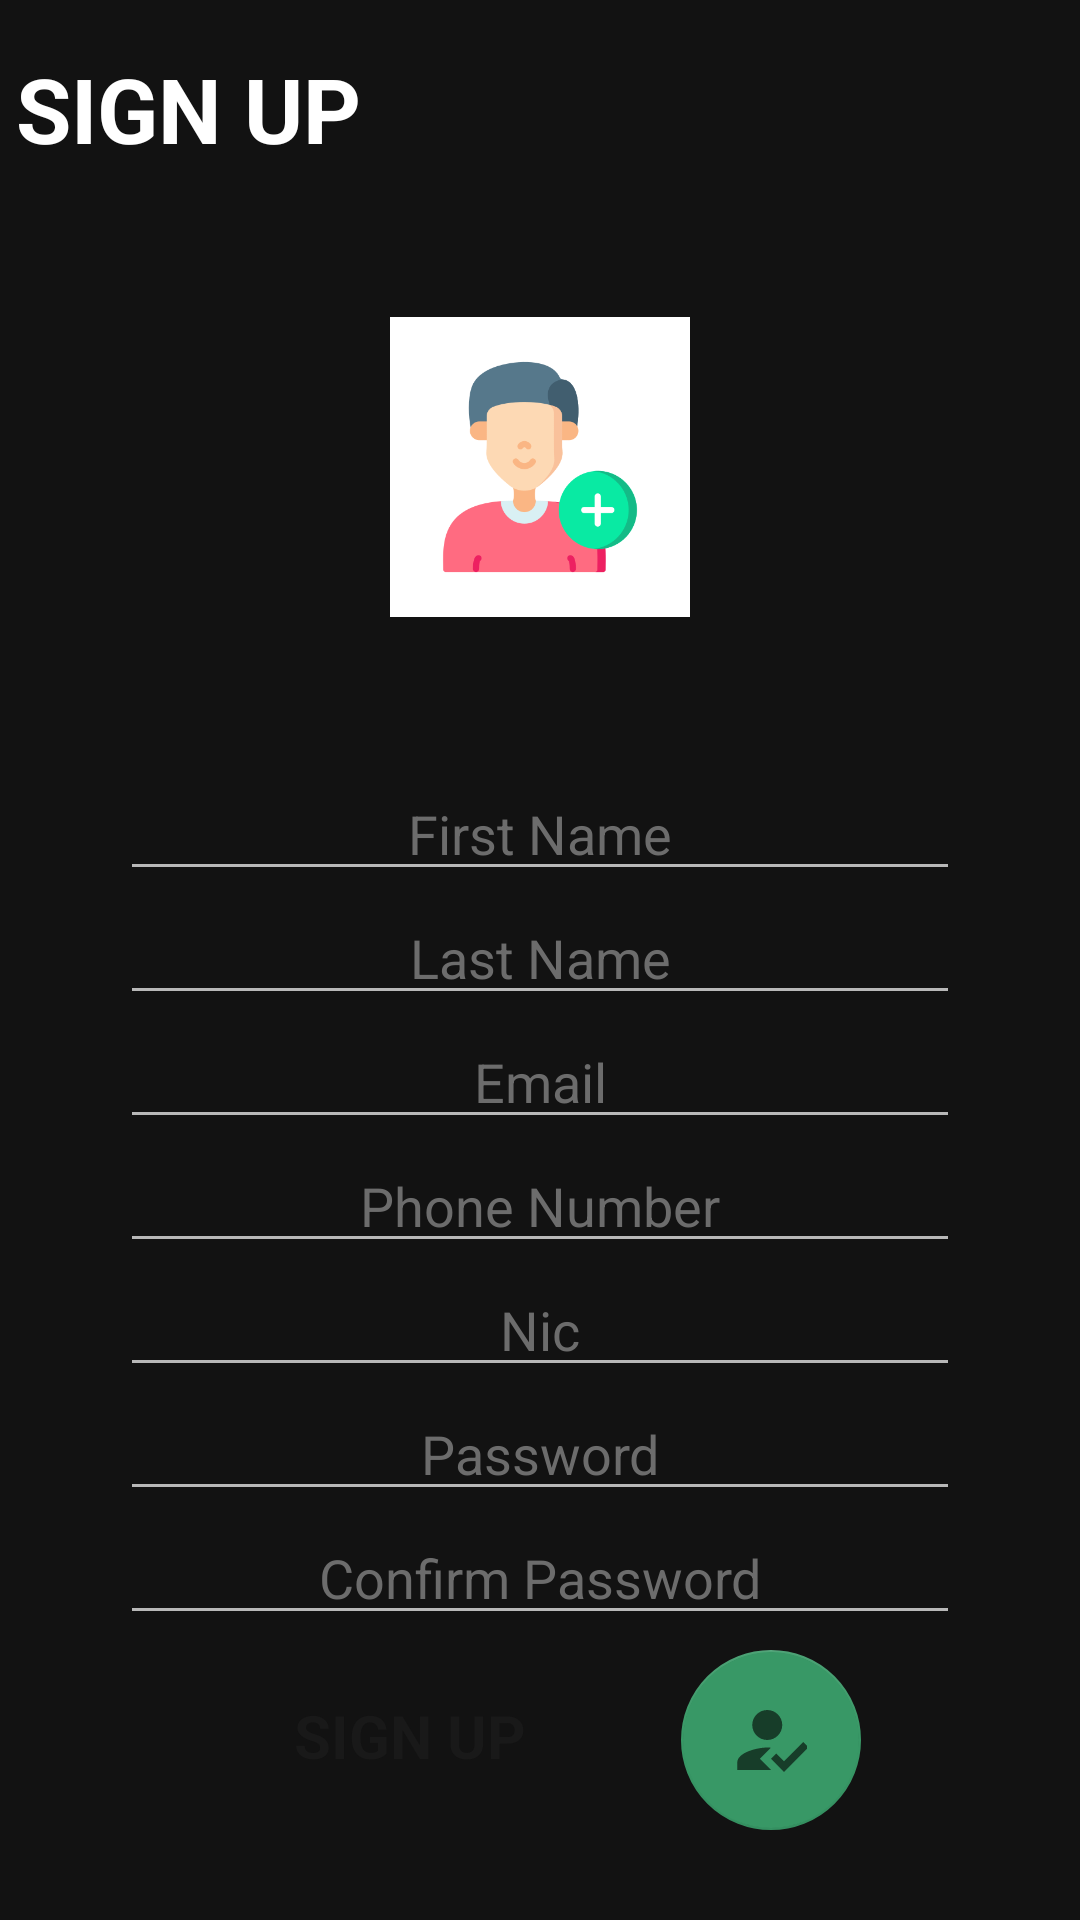

Named icons in this screenshot (1080px x 1920px) and their bounding boxes, (x1, y1, x2, y2):
signmeu: (681, 1650, 861, 1830)
